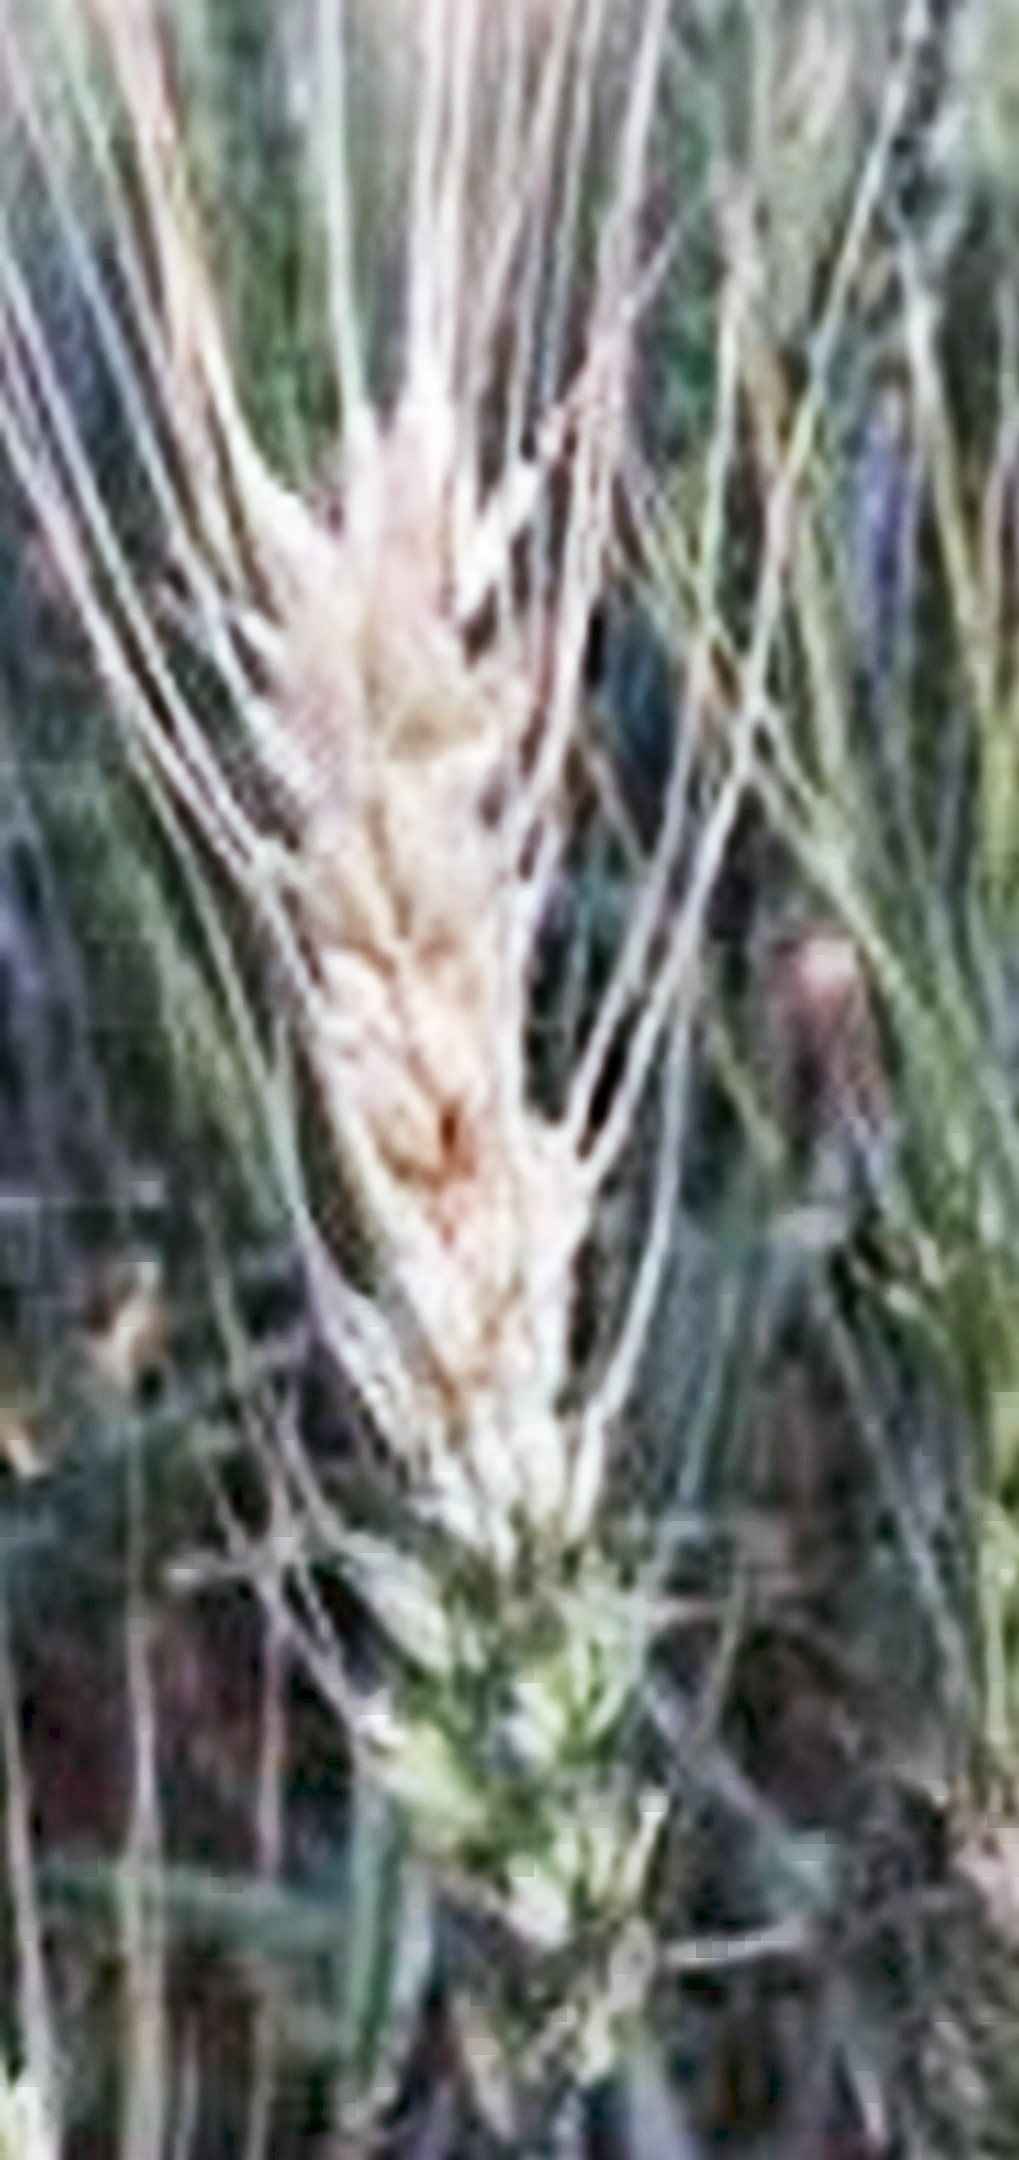Wheat scab: (191, 417, 766, 1970)
